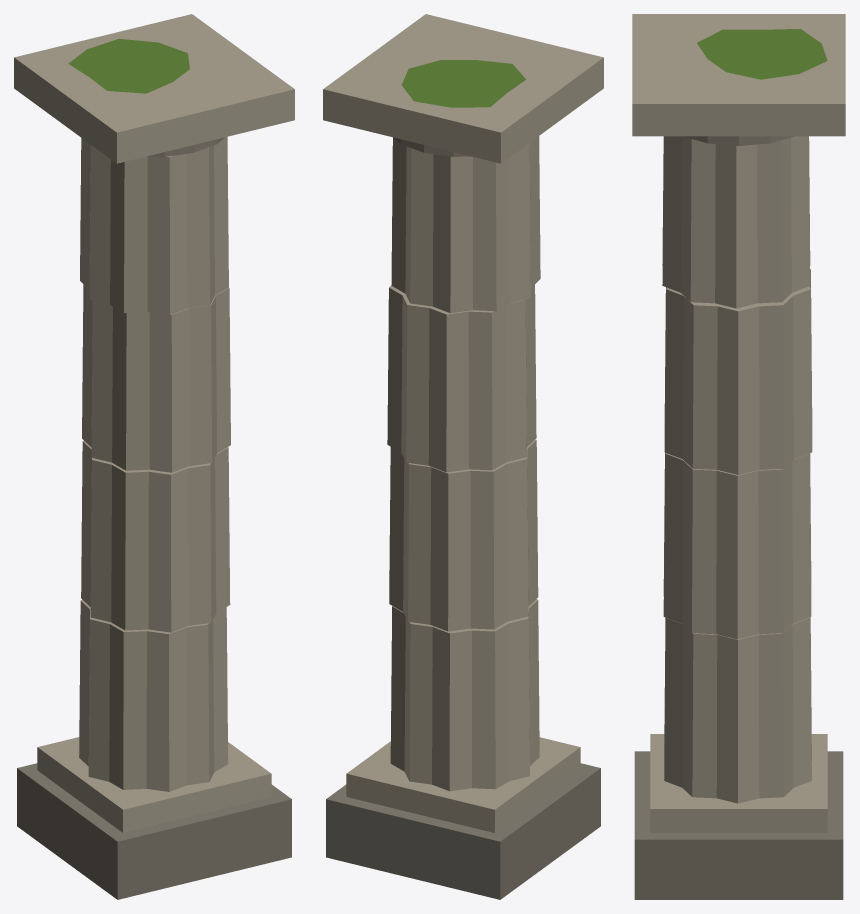
File: PillarB.glb
3 renders of one model, left to right at view 1: azimuth 30°, elevation 25°; view 2: azimuth 150°, elevation 25°; view 3: azimuth 270°, elevation 25°, orthographic. The views are drawn at different scales.
Parts seen in each view (by area): view 1: PillarB.stone, PillarB.stoneDark, PillarB.moss; view 2: PillarB.stone, PillarB.stoneDark, PillarB.moss; view 3: PillarB.stone, PillarB.stoneDark, PillarB.moss.
Part boxes in pixels (x1,y1,x2,y2): PillarB.stone: (14,14,294,832); PillarB.stoneDark: (17,137,291,899); PillarB.moss: (68,39,189,93); PillarB.stone: (323,14,603,832); PillarB.stoneDark: (326,137,600,899); PillarB.moss: (401,60,525,107); PillarB.stone: (632,14,845,832); PillarB.stoneDark: (634,136,843,899); PillarB.moss: (697,29,827,79).
Size of the model in its own units: 4.8 by 19.87 by 4.8.
